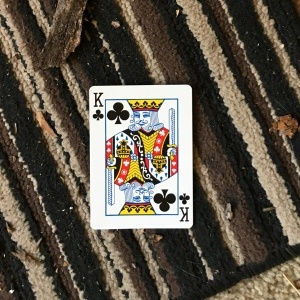card: (87, 80, 196, 229)
